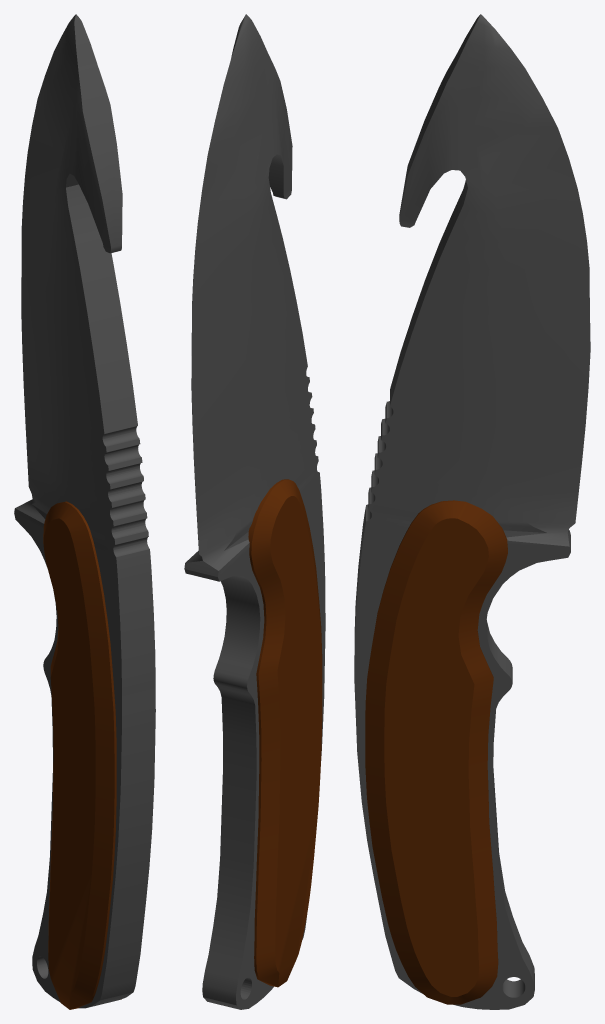
File: faca.fbx
3 renders of one model, left to right at view 1: azimuth 30°, elevation 25°; view 2: azimuth 150°, elevation 25°; view 3: azimuth 270°, elevation 25°, orthographic.
Visible parts, largest first — view 1: Cube, Cube.001; view 2: Cube, Cube.001; view 3: Cube, Cube.001.
Part boxes in pixels (x1,y1,x2,y2): Cube: [14, 14, 155, 1008]; Cube.001: [43, 501, 121, 1009]; Cube: [184, 14, 325, 1009]; Cube.001: [248, 479, 322, 987]; Cube: [354, 14, 590, 1009]; Cube.001: [365, 500, 507, 1004].
Size of the model in its own units: 46.15 by 764 by 166.
